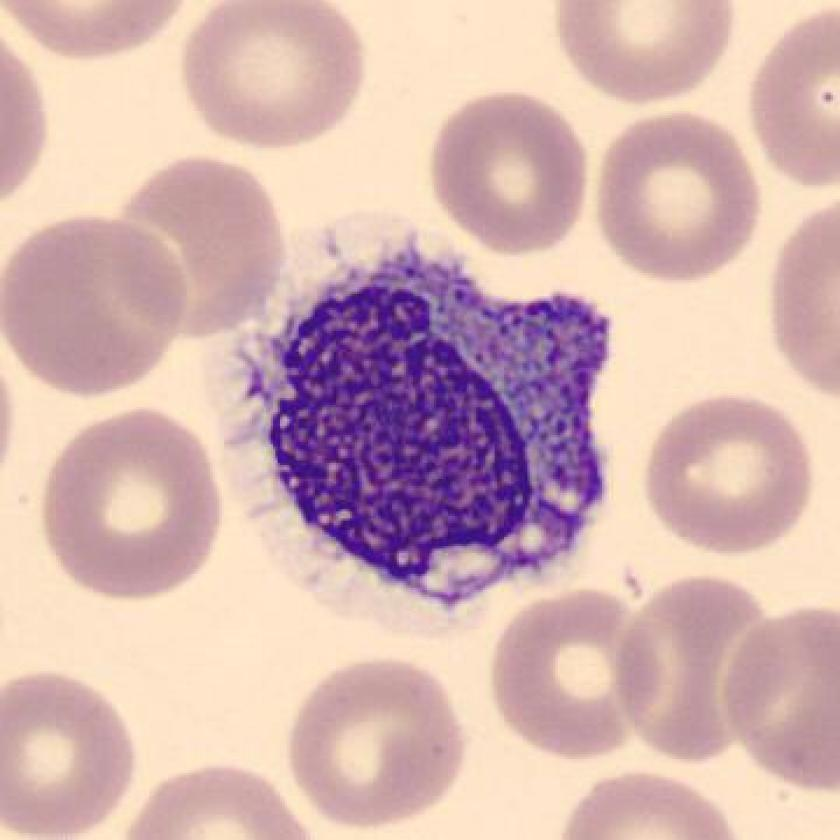monocyte: (225, 223, 636, 635)
